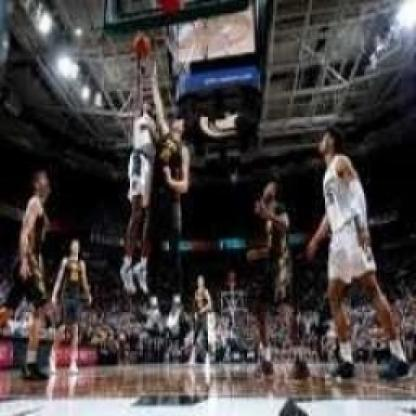basketball: (136, 33, 151, 59)
